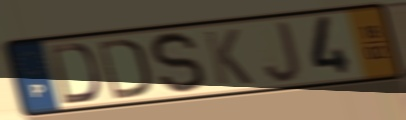4: (309, 13, 359, 80)
D: (95, 36, 153, 102), (47, 41, 102, 107)
J: (262, 18, 304, 85)
K: (201, 27, 256, 88)
S: (148, 29, 208, 97)
